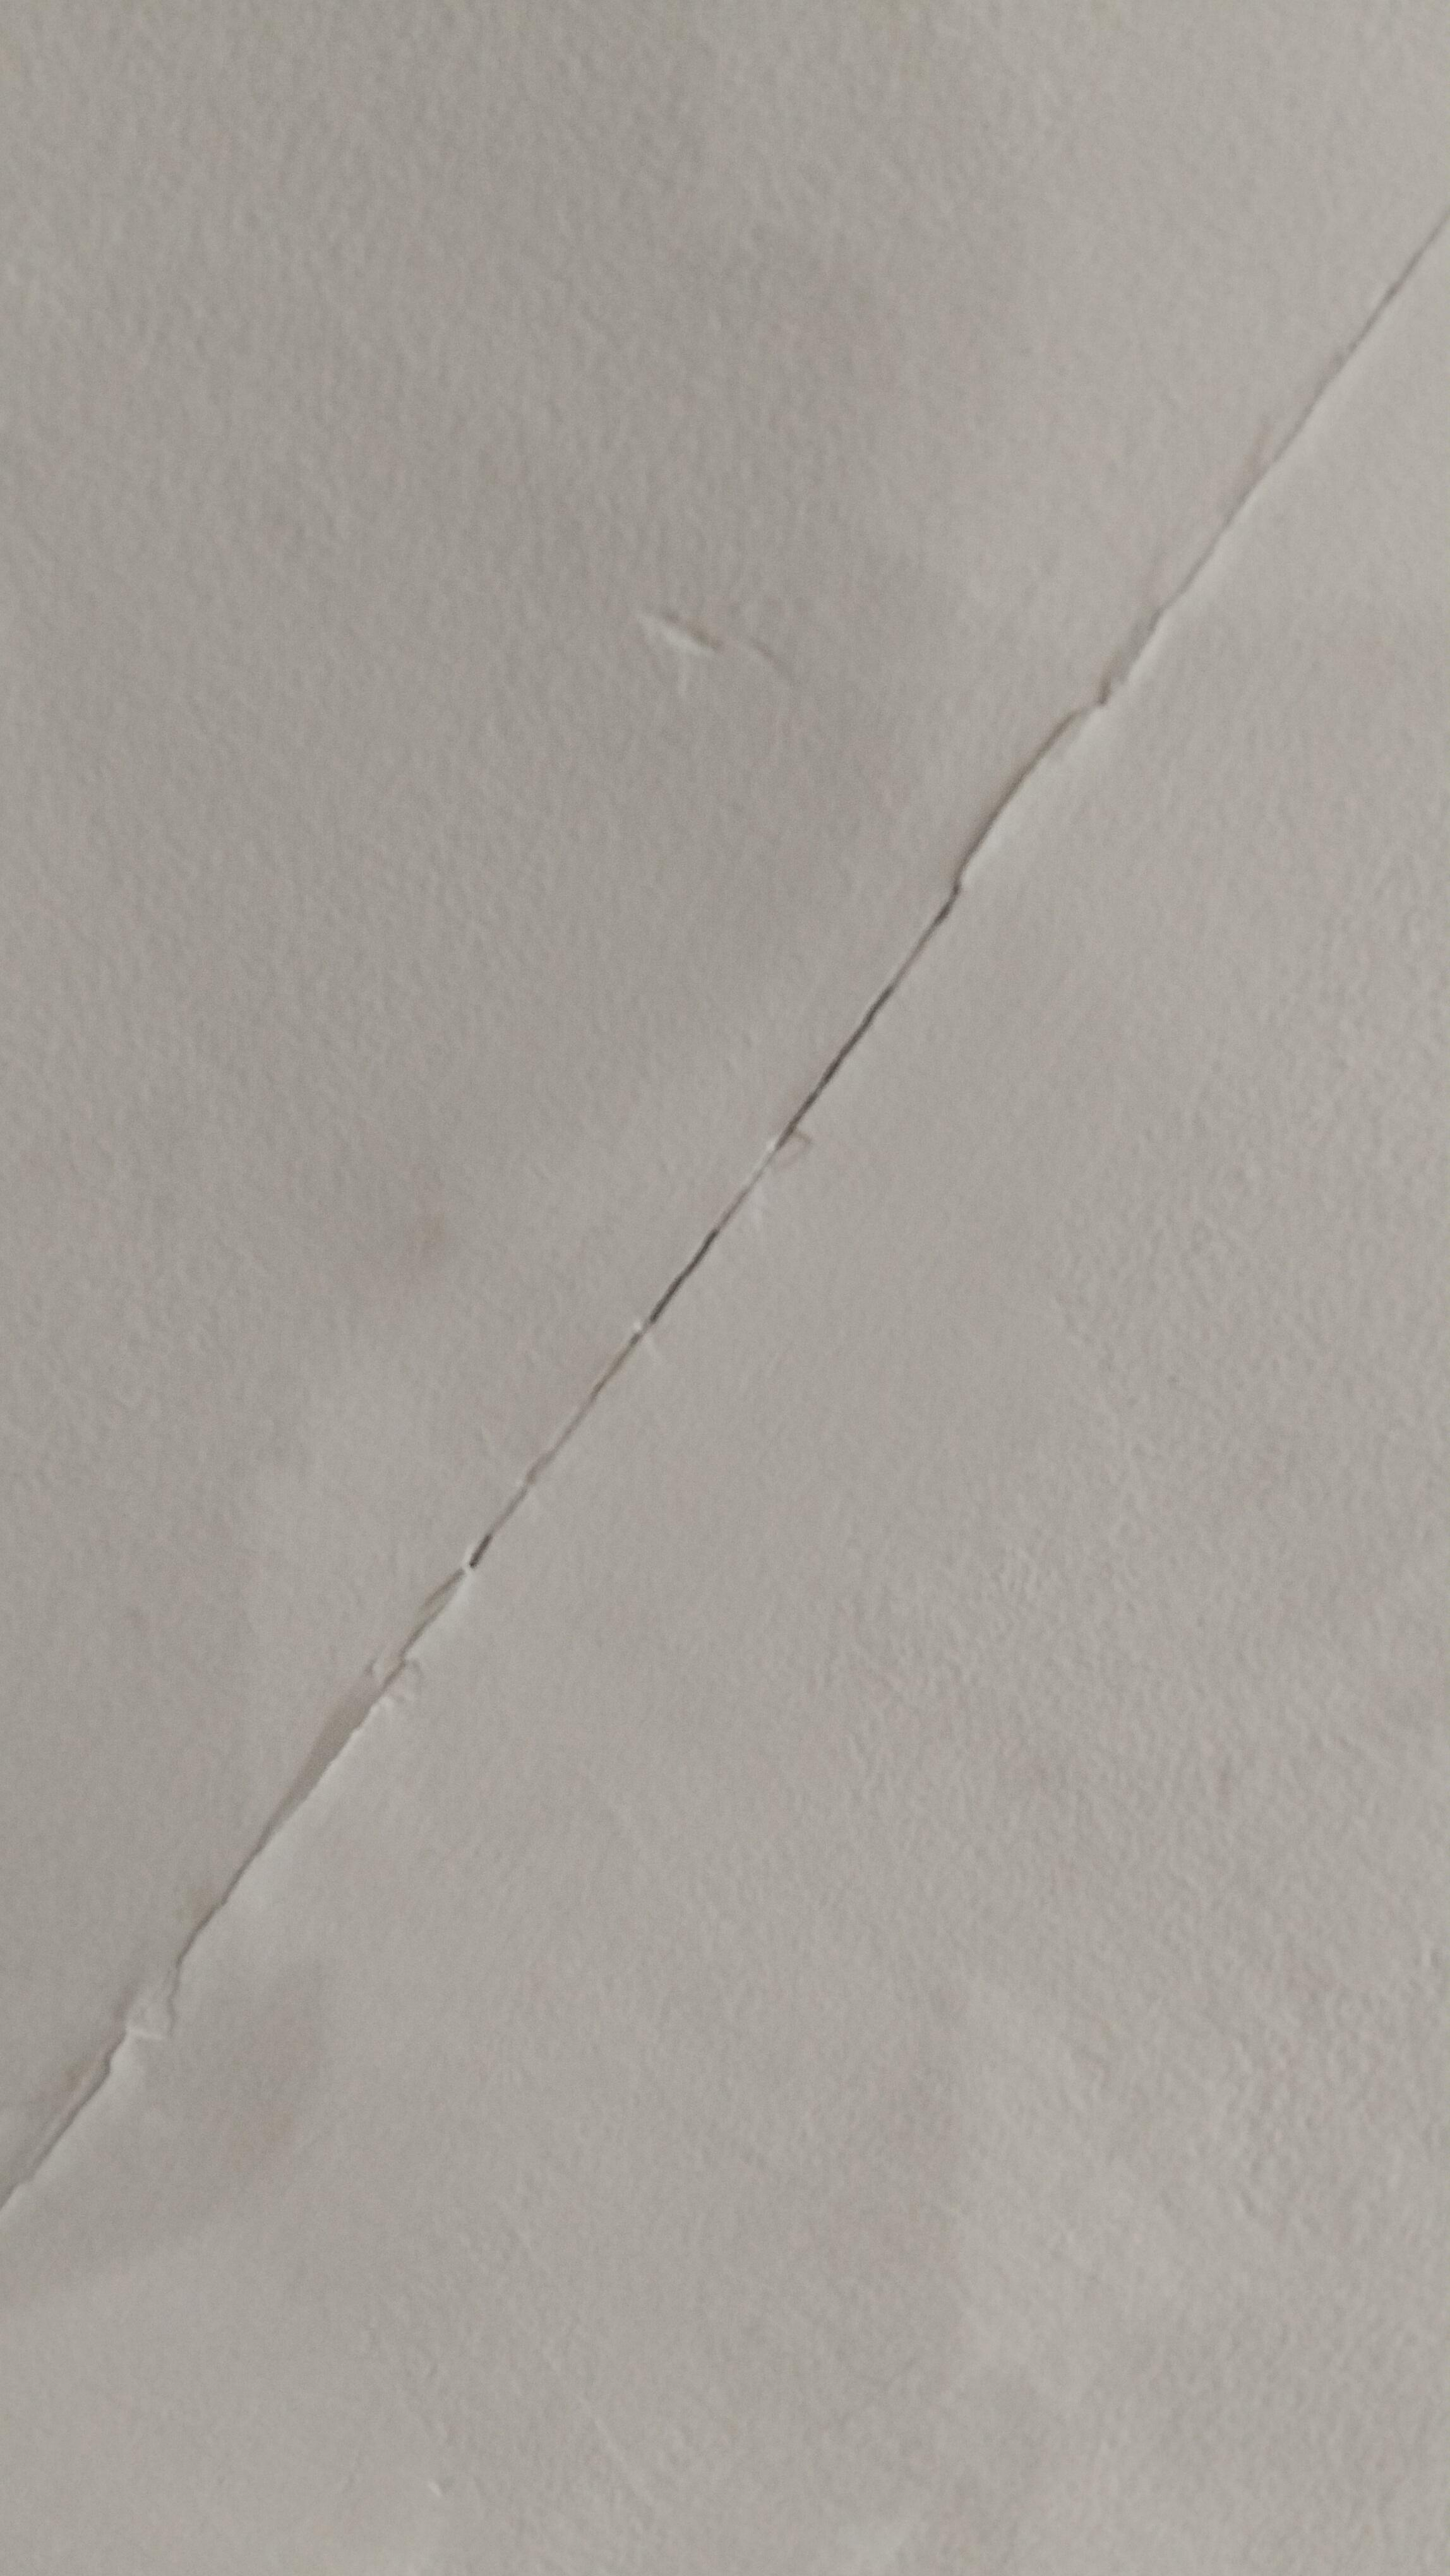Crack: (657, 354, 1408, 1325), (101, 1219, 770, 2158)
